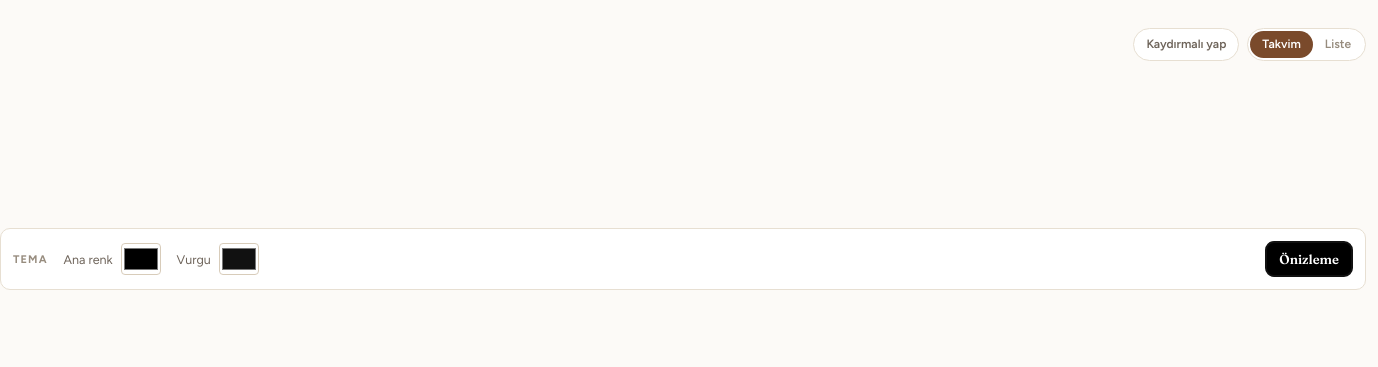
Test: PlanEditor — manual carousel in the calendar › enters select mode and shows a checkbox only on post cards
Click the button "Kaydırmalı yap". click: (1186, 45)
box: [1133, 28, 1239, 61]
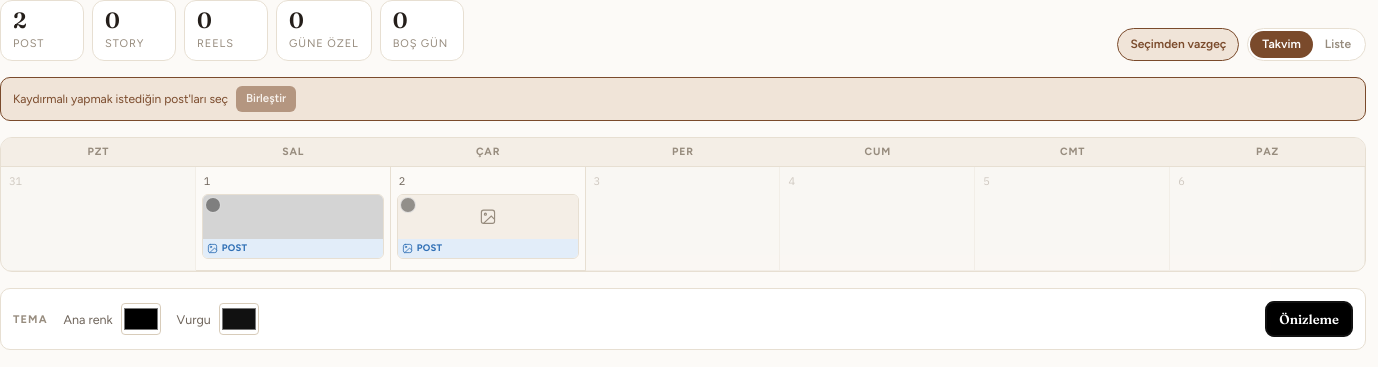
Now the text "Kaydırmalı yapmak istediğin post'ları seç" is shown, box [13, 90, 228, 108]
Now the number of buttons named "kaydırmalı için seç" is 2, box [205, 197, 221, 213]; [400, 197, 416, 213]
